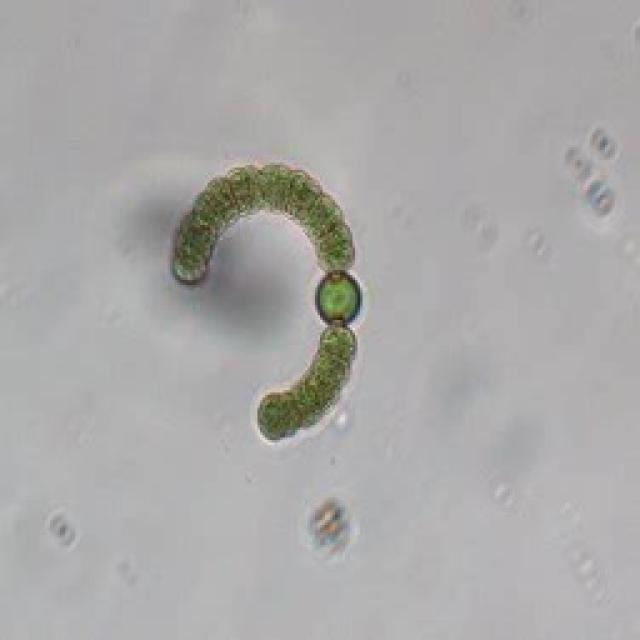Anabaena: (166, 160, 369, 448)
